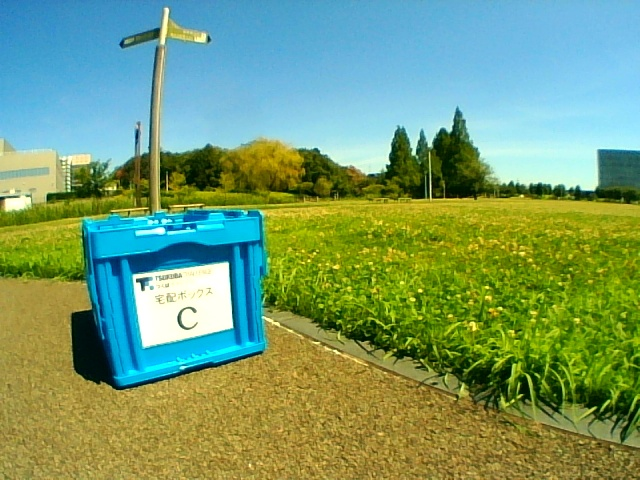blue_box: (115, 220, 257, 353)
tag_c: (152, 280, 211, 332)
